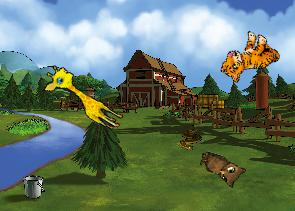giraffe: (38, 61, 131, 133)
owl: (194, 150, 247, 190)
tiger: (216, 24, 284, 94)
